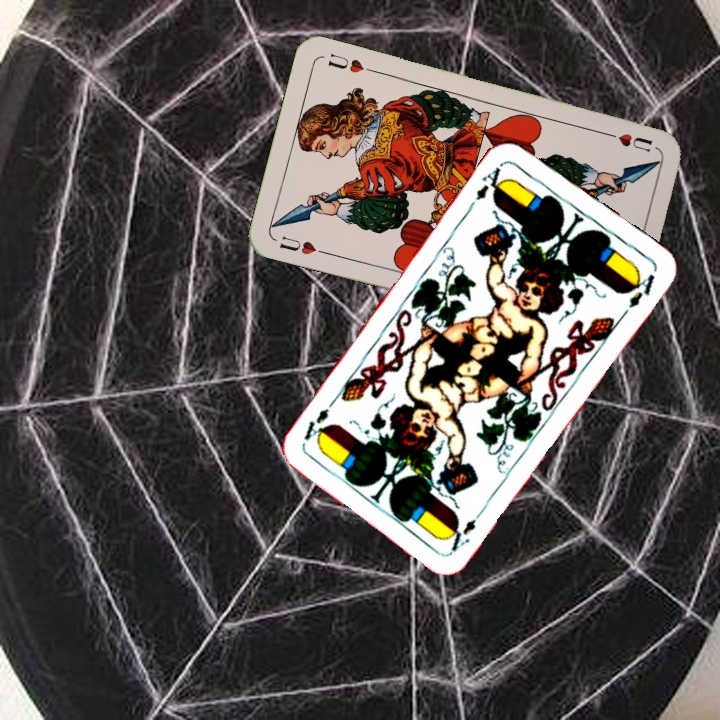EA: (447, 504, 488, 555), (471, 160, 509, 204)
HU: (599, 127, 655, 155), (275, 232, 330, 257)
